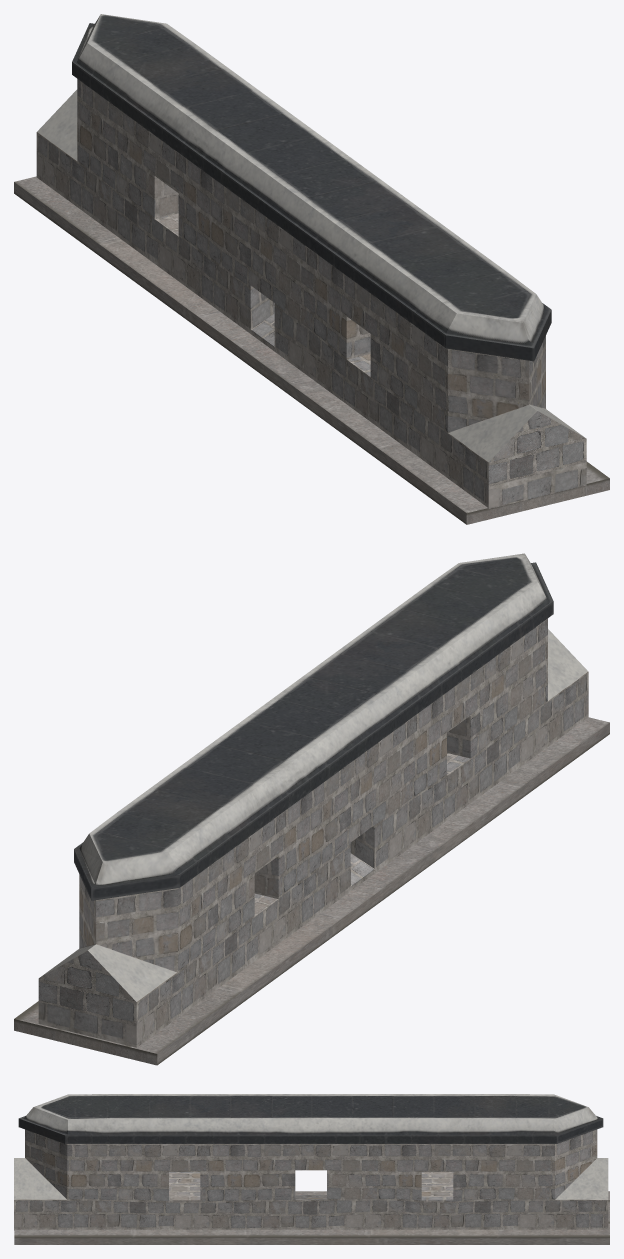
The model's file is SM_CW_Parapet.fbx.
The picture shows the model from 3 angles, top to bottom: view 1: azimuth 30°, elevation 25°; view 2: azimuth 150°, elevation 25°; view 3: azimuth 270°, elevation 25°; orthographic projection. The views are drawn at different scales.
Visible parts, largest first — view 1: SM_CW_Parapet; view 2: SM_CW_Parapet; view 3: SM_CW_Parapet.
Boxes of the visible parts, x1,y1,x2,y2 form: SM_CW_Parapet: [14, 14, 609, 524]; SM_CW_Parapet: [14, 553, 609, 1065]; SM_CW_Parapet: [14, 1094, 609, 1244].
Size of the model in its own units: 143 by 784 by 167.
2 materials, 2 textured.
